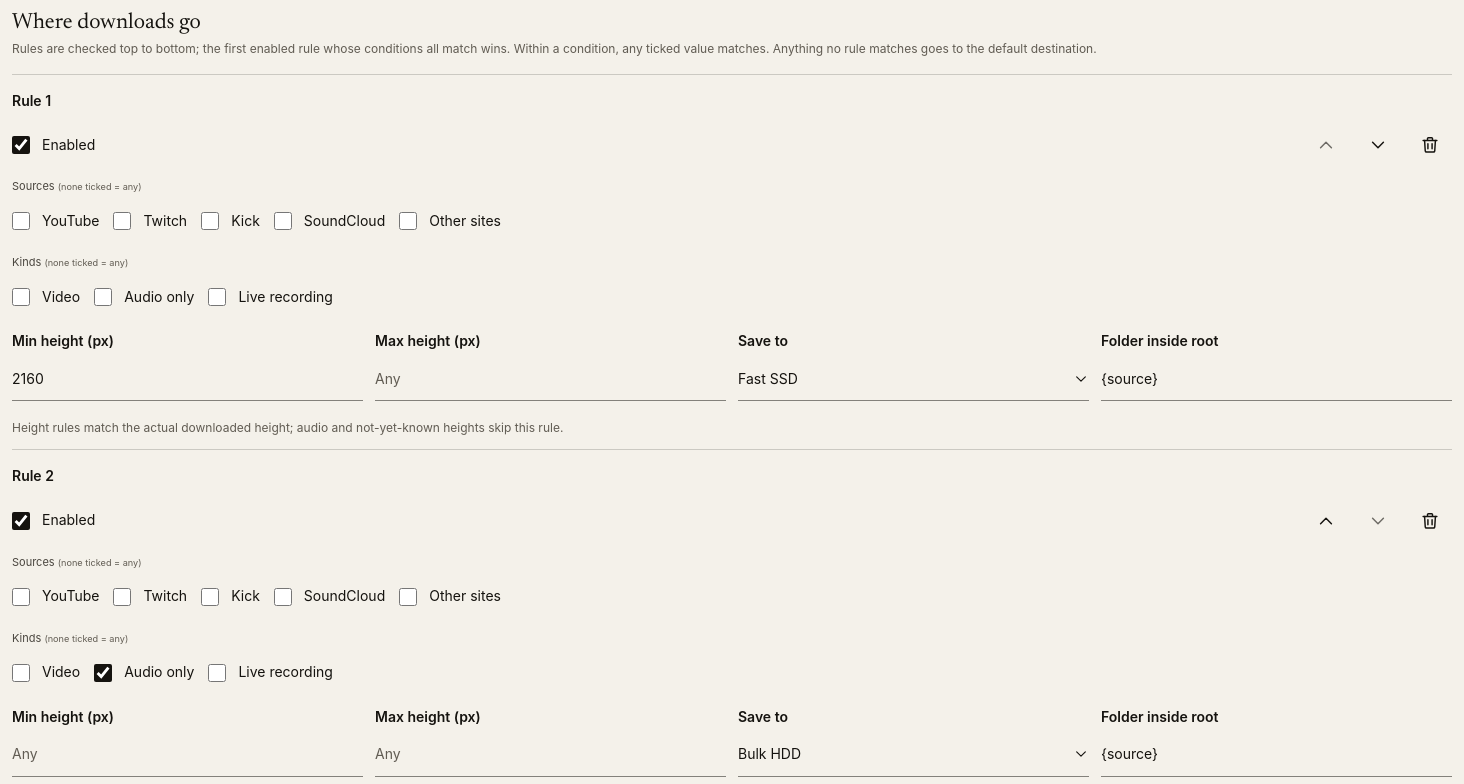
Test: admin storage › validates a rule inline before saving
(page scrolled)
Type "1080" into the 1st number field labelled "Max height (px)" at (550, 379), box x1=375 y1=357 x2=726 y2=401
(page scrolled)
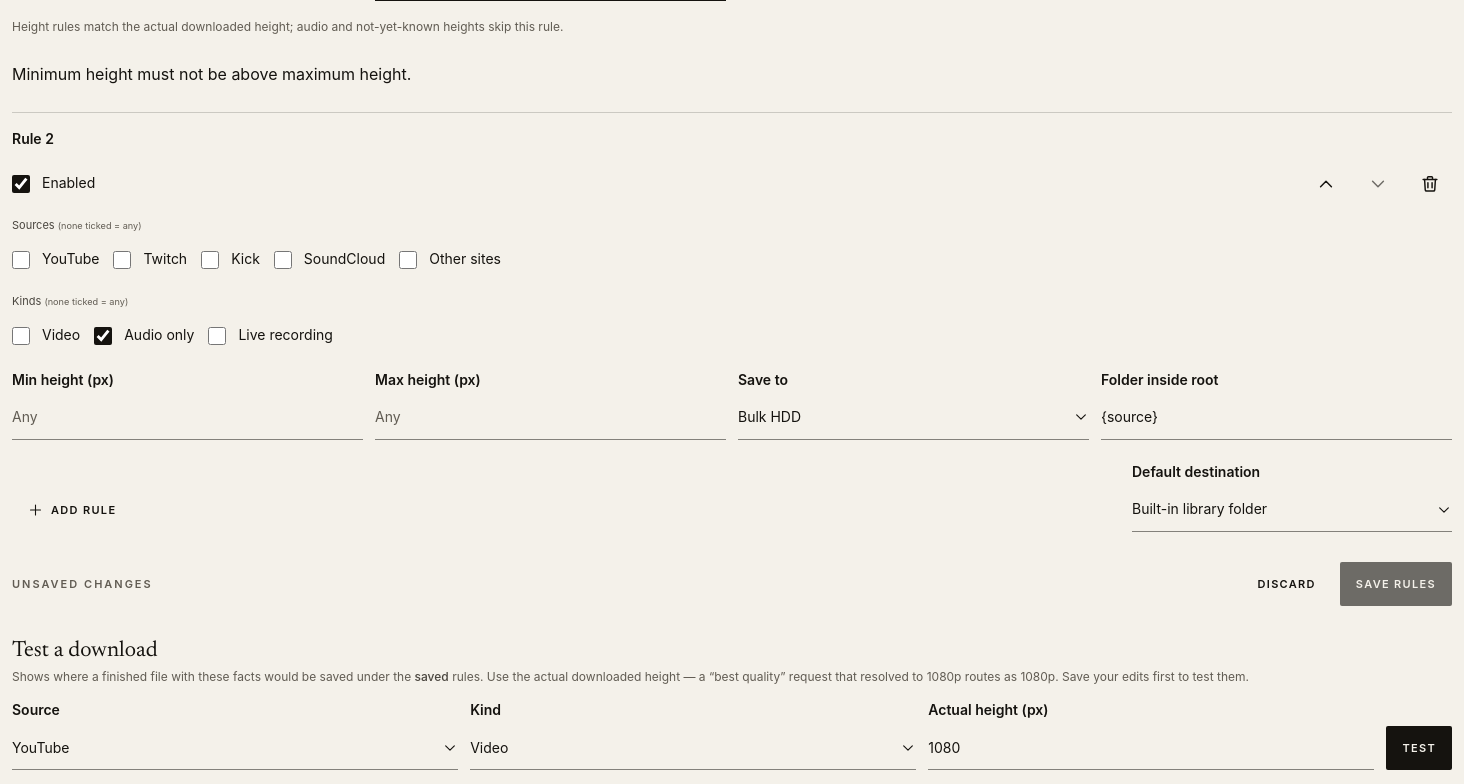
Expected: the button "Save rules" is disabled, x1=1340 y1=562 x2=1452 y2=606
Result: the message "Minimum height must not be above maximum height." is shown at x1=12 y1=64 x2=411 y2=84
